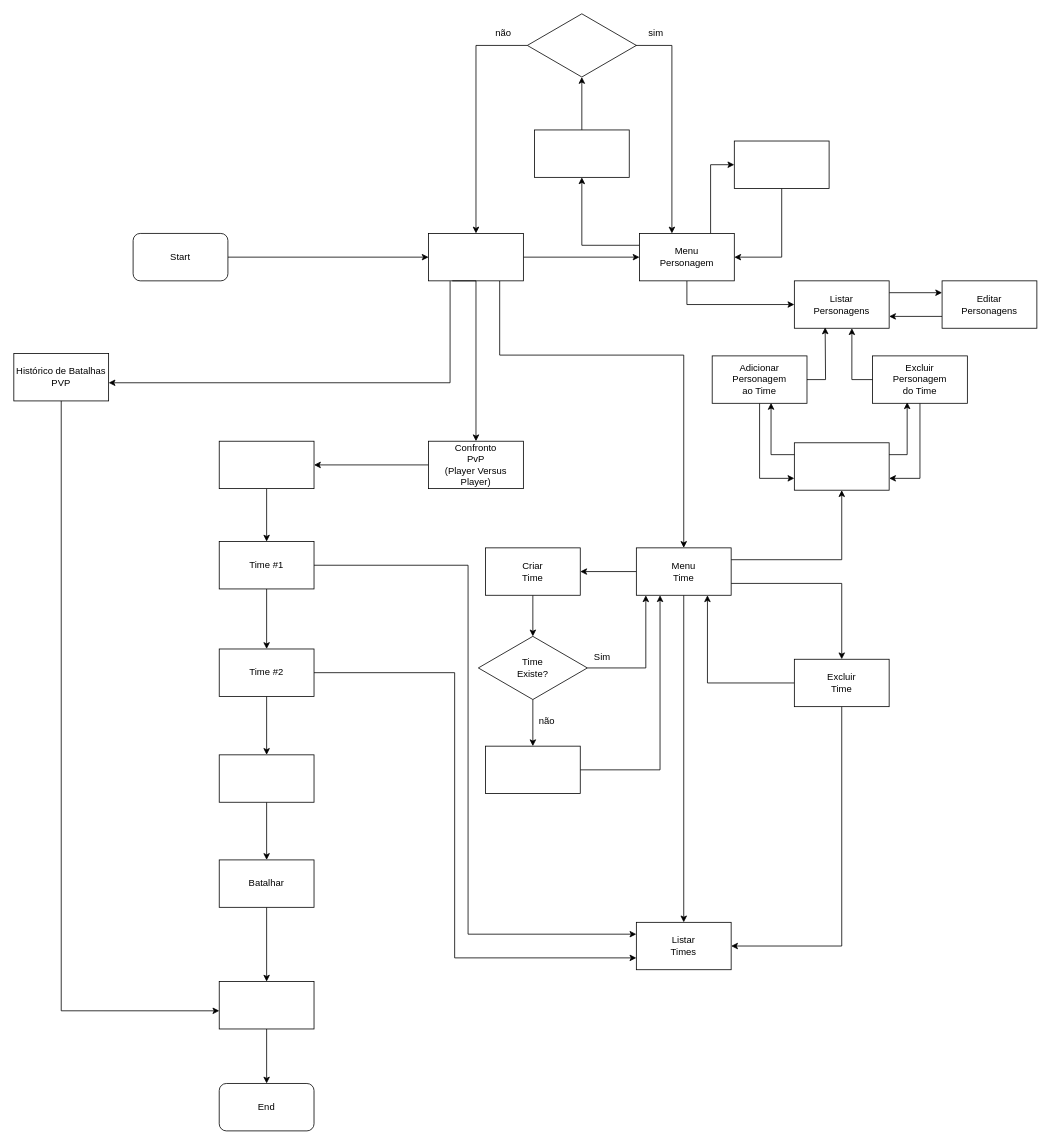
Image size: 1051x1145. Some labels were removed from this diagram. The shapes that lost their labels are listed below. From the top down, each one's centre as x and y in pixels, then its label:
(581,45): Personagem Cadastrado?
(581,153): Cadastrar Personagem
(781,164): Excluir Personagem
(475,257): Menu Principal
(266,464): Selecionar Times
(841,466): Inserir / Remover Personagem
(266,778): Cenário
(532,769): Time Cadastrado
(266,1005): Vencedor
